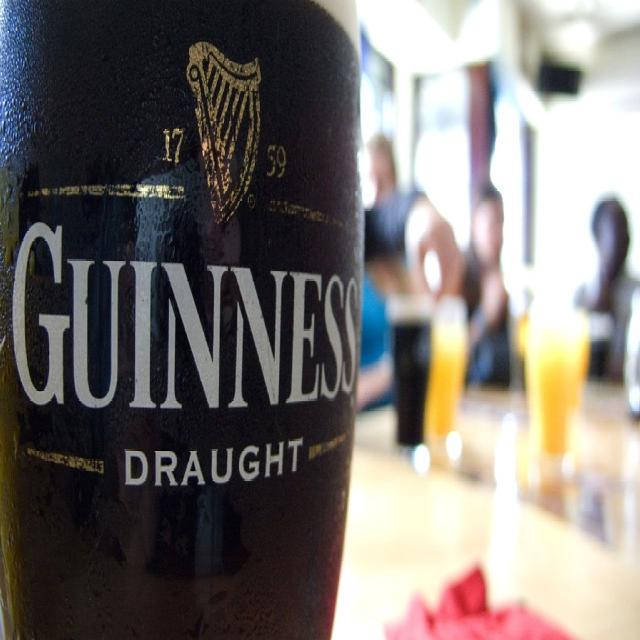guiness: (8, 35, 360, 421)
